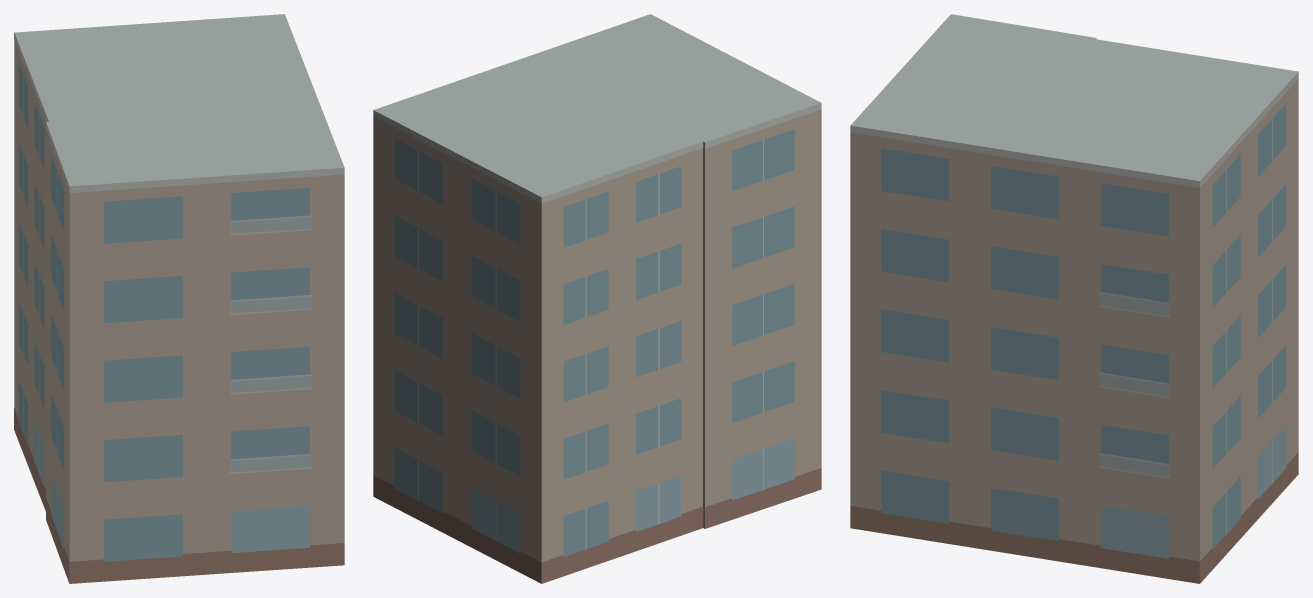
The model's file is survey-upis-33020956.glb.
3 views of the same model, side by side, from view 1: azimuth 30°, elevation 25°; view 2: azimuth 150°, elevation 25°; view 3: azimuth 270°, elevation 25° (orthographic). The views are drawn at different scales.
Parts seen in each view (by area): view 1: survey-upis-33020956.tmp; view 2: survey-upis-33020956.tmp; view 3: survey-upis-33020956.tmp.
Boxes of the visible parts, <box> form: survey-upis-33020956.tmp: <box>14,14,344,583</box>; survey-upis-33020956.tmp: <box>373,14,821,583</box>; survey-upis-33020956.tmp: <box>850,14,1298,583</box>.
Size of the model in its own units: 12.97 by 14.55 by 14.69.
